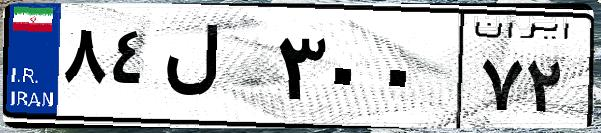0: (385, 28, 445, 110), (330, 28, 385, 110)
2: (525, 38, 570, 115)
3: (270, 28, 330, 110)
4: (110, 28, 158, 98)
7: (475, 38, 525, 113)
8: (57, 26, 110, 100)
ل: (158, 20, 270, 120)
